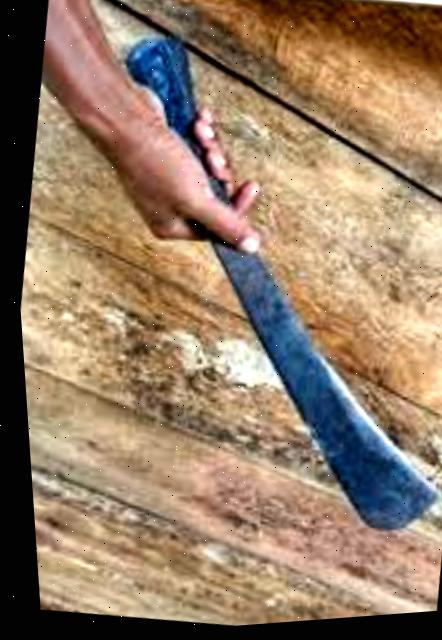long knife: (46, 10, 442, 570)
